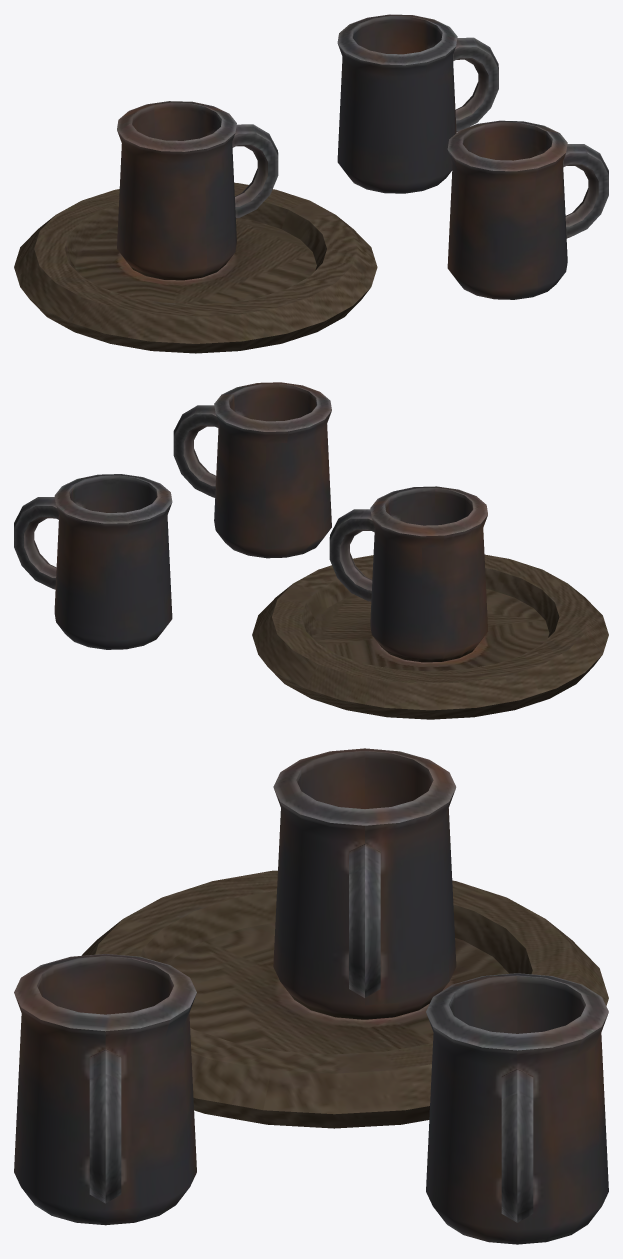
File: mug_clutter.glb
The picture shows the model from 3 angles, top to bottom: view 1: azimuth 30°, elevation 25°; view 2: azimuth 150°, elevation 25°; view 3: azimuth 270°, elevation 25°; orthographic projection. The views are drawn at different scales.
Visible parts, largest first — view 1: mug_clutter; view 2: mug_clutter; view 3: mug_clutter.
Boxes of the visible parts, x1,y1,x2,y2 form: mug_clutter: (14, 14, 608, 353); mug_clutter: (14, 382, 608, 719); mug_clutter: (14, 748, 608, 1244).
Size of the model in its own units: 0.5957 by 0.168 by 0.39.
1 material, 1 textured.
